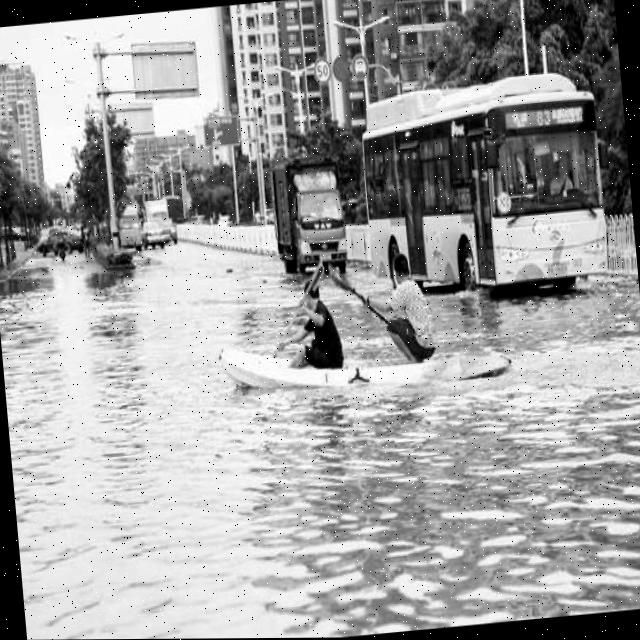civilian: (366, 247, 448, 366), (280, 265, 345, 373)
